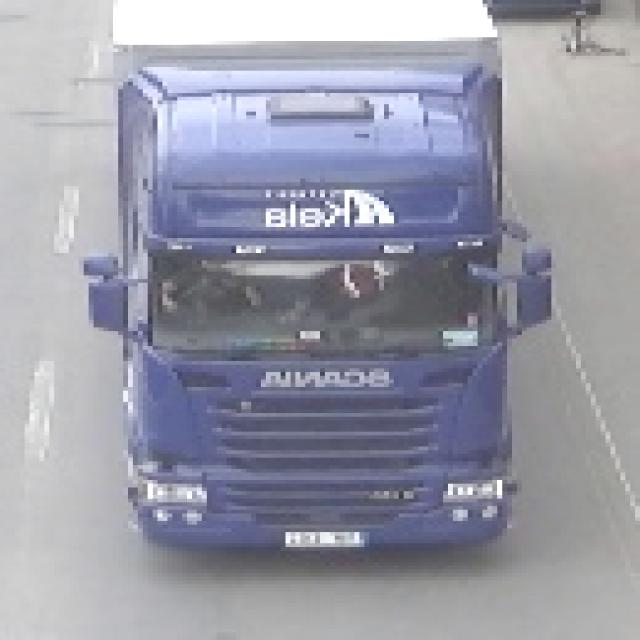truck: (80, 1, 552, 548)
